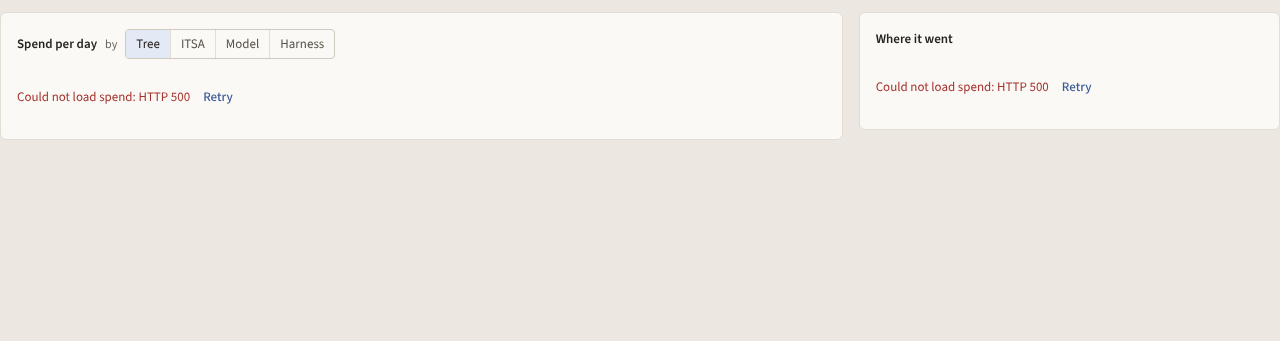
Test: OverviewCharts › shows an error with Retry when the fetch fails, and loads again on Retry
expect the message "Could not load spend: HTTP 500 Retry" below "Spend per" is shown: met, box [138,88,190,105]
What coordinates should you click on to do the following:
click the button "Retry" below "Spend per"
I would click on:
 (218, 97)
Its box is [198,83,238,111].
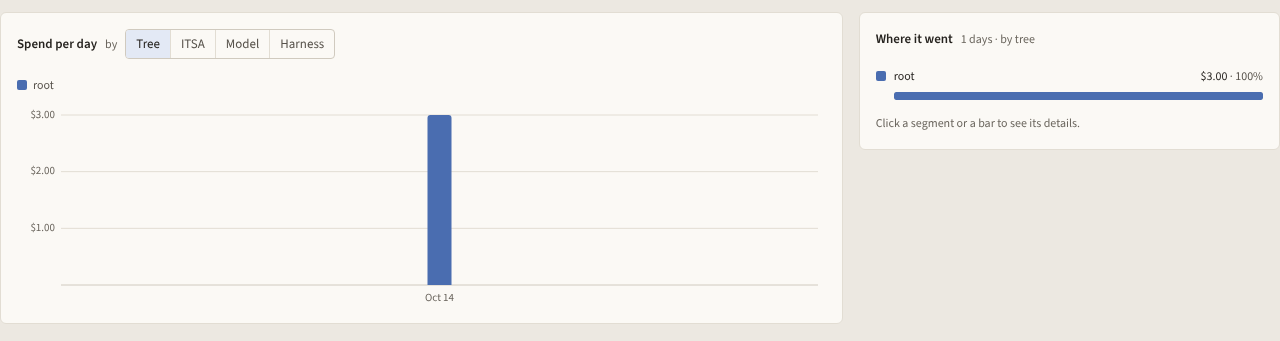
expect the button with class "uc-bar" is shown: met, box [876,61,1263,105]
